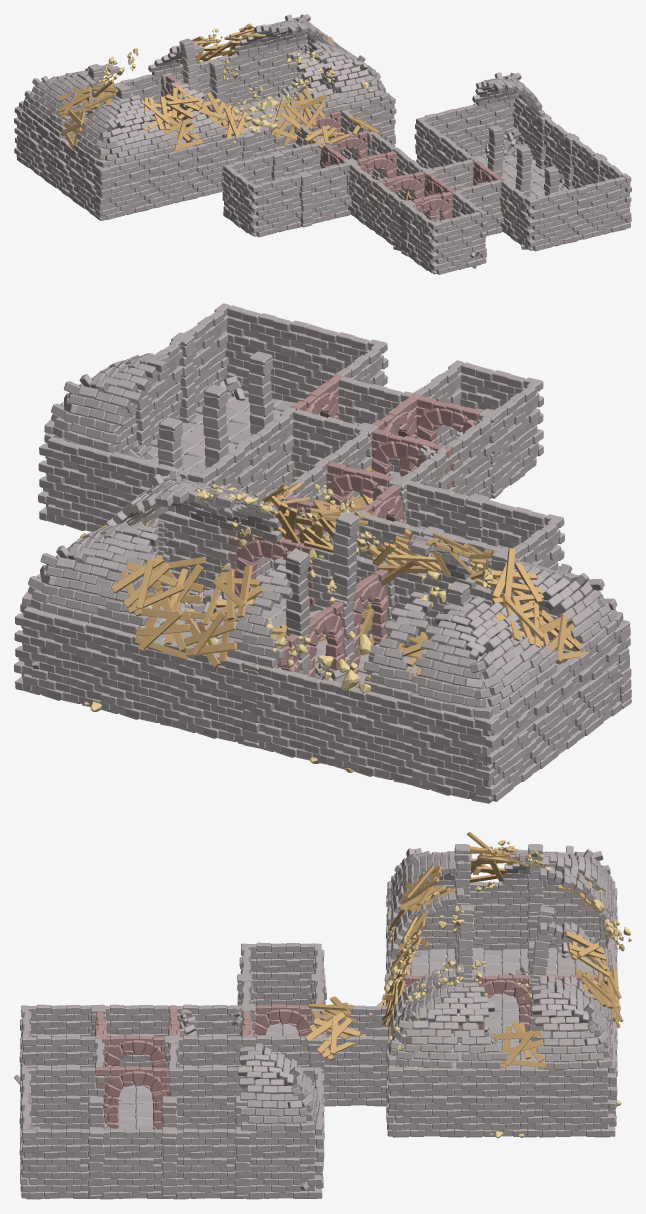
The model's file is DungeonKit_Render.glb.
3 views of the same model, one above another, from view 1: azimuth 30°, elevation 25°; view 2: azimuth 150°, elevation 25°; view 3: azimuth 270°, elevation 25° (orthographic). The views are drawn at different scales.
Parts seen in each view (by area): view 1: GLTF_Post1 (×81); view 2: GLTF_Post1 (×84); view 3: GLTF_Post1 (×63).
Boxes of the visible parts, x1,y1,x2,y2 form: GLTF_Post1 (×81): (14, 14, 631, 274); GLTF_Post1 (×84): (14, 303, 631, 802); GLTF_Post1 (×63): (19, 844, 617, 1198).
Size of the model in its own units: 41.16 by 13.23 by 42.19.
